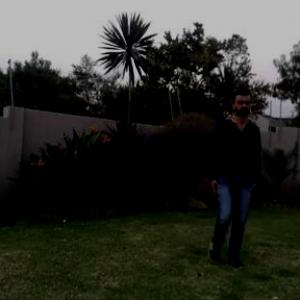follow: (212, 97, 256, 253)
